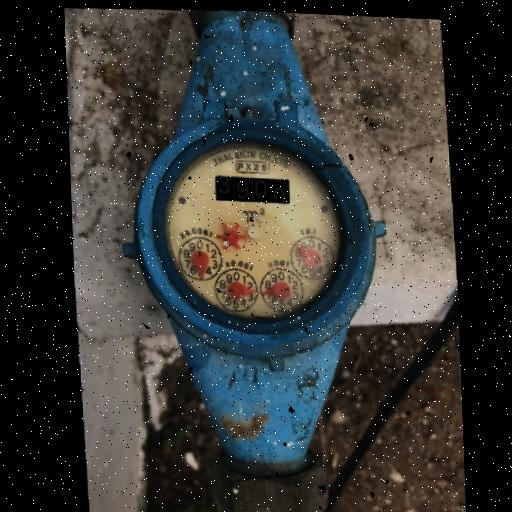0: (253, 178, 271, 202), (271, 179, 289, 203)
3: (215, 176, 234, 201)
9: (235, 177, 253, 202)
border_water_meter_number: (215, 176, 290, 204)
